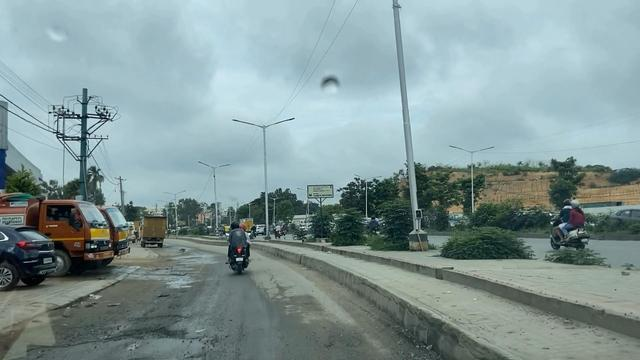RoadDamages: (92, 317, 193, 360)
